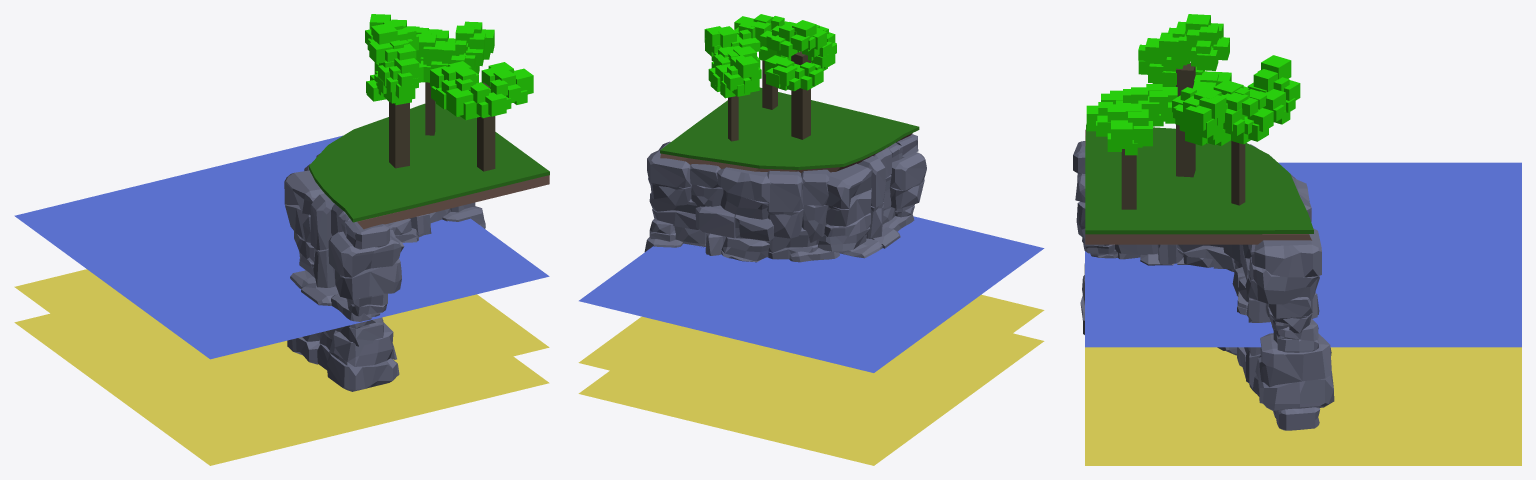
File: 32__tile.fbx
3 renders of one model, left to right at view 1: azimuth 30°, elevation 25°; view 2: azimuth 150°, elevation 25°; view 3: azimuth 270°, elevation 25°, orthographic. The views are drawn at different scales.
Visible parts, largest first — view 1: 32__tile; view 2: 32__tile; view 3: 32__tile.
Part boxes in pixels (box(x1,y1,x2,y2)): 32__tile: box(14, 14, 549, 465); 32__tile: box(578, 14, 1044, 465); 32__tile: box(1073, 14, 1521, 465).
Bounding box in the file's own units: 212 × 194 × 205.
